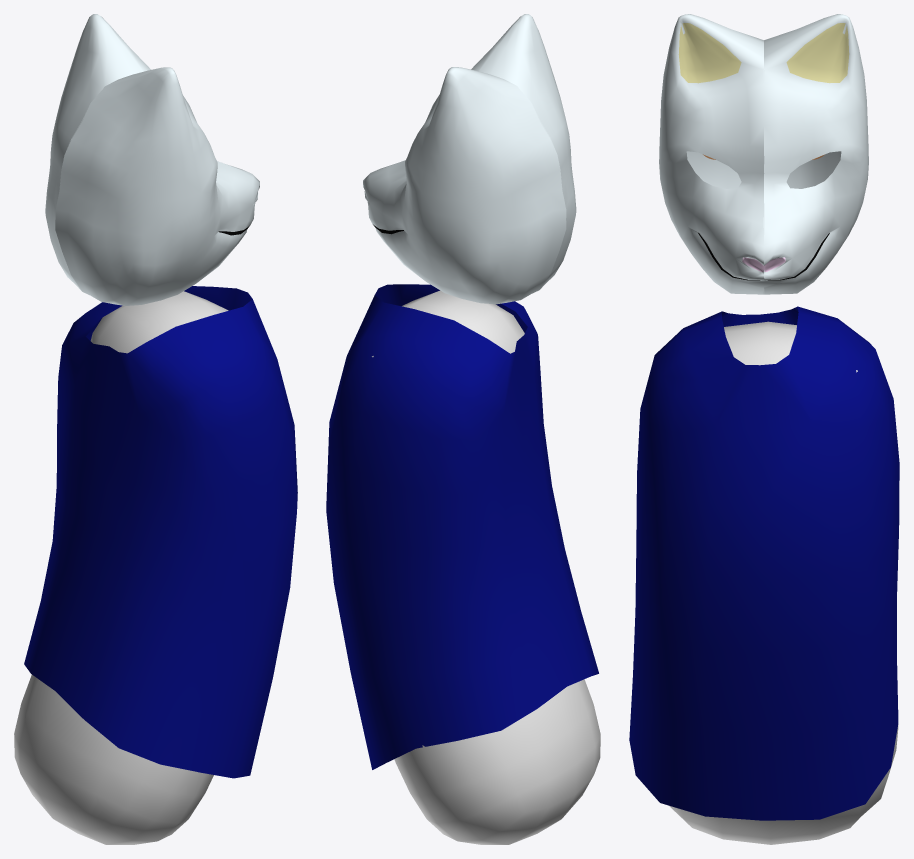
Rendered from NPC 5.fbx.
3 views of the same model, side by side, from view 1: azimuth 30°, elevation 25°; view 2: azimuth 150°, elevation 25°; view 3: azimuth 270°, elevation 25° (orthographic). The views are drawn at different scales.
Visible parts, largest first — view 1: T-shirt.005, Mask.003, body.005; view 2: T-shirt.005, Mask.003, body.005; view 3: T-shirt.005, Mask.003, body.005.
Boxes of the visible parts, bbox=[...] form: T-shirt.005: bbox=[24, 286, 297, 778]; Mask.003: bbox=[45, 14, 259, 305]; body.005: bbox=[14, 291, 228, 844]; T-shirt.005: bbox=[326, 284, 598, 769]; Mask.003: bbox=[363, 14, 576, 304]; body.005: bbox=[372, 290, 600, 844]; T-shirt.005: bbox=[629, 306, 899, 820]; Mask.003: bbox=[659, 14, 868, 294]; body.005: bbox=[669, 321, 898, 844].
Bounding box in the file's own units: 2.26 × 7.21 × 2.12.
